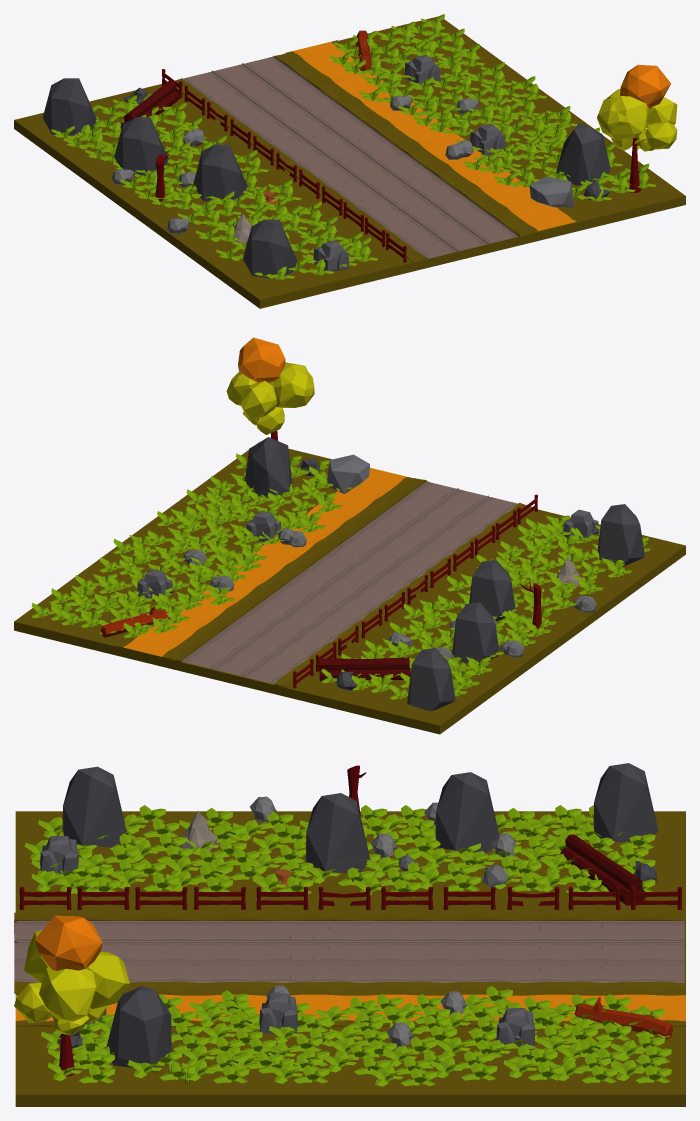
Rendered from Forest Area 4.fbx.
3 renders of one model, top to bottom at view 1: azimuth 30°, elevation 25°; view 2: azimuth 150°, elevation 25°; view 3: azimuth 270°, elevation 25°, orthographic. The views are drawn at different scales.
Parts seen in each view (by area): view 1: SM_Env_Grass_01.029, Plane.004, Tree3.009, WoodFence1.003, Rock_04.006, Rock_04.014, Rock_04.015, Rock_04.005, Rock_04.013, Rock_01.002, Rock5, Rock5.004 (+2 smaller); view 2: SM_Env_Grass_01.029, Plane.004, Tree3.009, WoodFence1.003, Rock_04.005, Rock_04.006, Rock_04.014, Rock_04.013, Rock_04.015, Rock_01.002, Log.004, Branch_01.001 (+4 smaller); view 3: SM_Env_Grass_01.029, Plane.004, Tree3.009, WoodFence1.003, Rock_04.014, Rock_04.006, Rock_04.015, Rock_04.013, Rock_04.005, Branch_01.001, Log.004, Rock5.004 (+4 smaller).
Part boxes in pixels (left/top/right/bottom): SM_Env_Grass_01.029: left=175, top=40, right=583, bottom=262; Plane.004: left=14, top=16, right=685, bottom=308; Tree3.009: left=597, top=64, right=677, bottom=192; WoodFence1.003: left=162, top=69, right=406, bottom=262; Rock_04.006: left=556, top=123, right=610, bottom=185; Rock_04.014: left=243, top=219, right=297, bottom=278; Rock_04.015: left=193, top=144, right=247, bottom=201; Rock_04.005: left=42, top=78, right=96, bottom=135; Rock_04.013: left=114, top=117, right=168, bottom=175; Rock_01.002: left=529, top=176, right=574, bottom=207; Rock5: left=313, top=240, right=349, bottom=273; Rock5.004: left=470, top=124, right=505, bottom=155; SM_Env_Grass_01.029: left=116, top=467, right=531, bottom=687; Plane.004: left=14, top=442, right=685, bottom=734; Tree3.009: left=226, top=337, right=314, bottom=440; WoodFence1.003: left=293, top=494, right=537, bottom=688; Rock_04.005: left=407, top=648, right=455, bottom=711; Rock_04.006: left=244, top=437, right=292, bottom=497; Rock_04.014: left=596, top=504, right=644, bottom=566; Rock_04.013: left=452, top=602, right=499, bottom=663; Rock_04.015: left=469, top=560, right=515, bottom=621; Rock_01.002: left=327, top=454, right=369, bottom=493; Log.004: left=318, top=657, right=409, bottom=670; Branch_01.001: left=100, top=606, right=170, bottom=637; SM_Env_Grass_01.029: left=14, top=912, right=685, bottom=1026; Plane.004: left=15, top=811, right=685, bottom=1106; Tree3.009: left=14, top=915, right=129, bottom=1076; WoodFence1.003: left=19, top=886, right=682, bottom=909; Rock_04.014: left=62, top=766, right=126, bottom=847; Rock_04.006: left=107, top=985, right=171, bottom=1067; Rock_04.015: left=305, top=793, right=370, bottom=873; Rock_04.013: left=435, top=772, right=499, bottom=852; Rock_04.005: left=593, top=763, right=658, bottom=842; Branch_01.001: left=574, top=997, right=673, bottom=1039; Log.004: left=565, top=834, right=642, bottom=891; Rock5.004: left=259, top=993, right=297, bottom=1033.
Size of what is drawn, in the model's own units: 10265 by 2889 by 10024.
